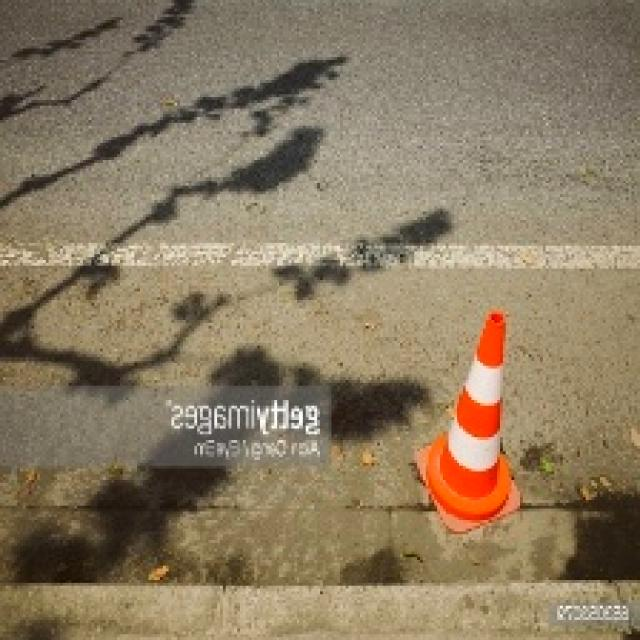cone: (414, 309, 529, 537)
